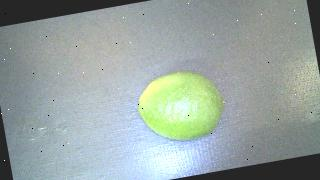EXPORTACION: (133, 66, 230, 148)
